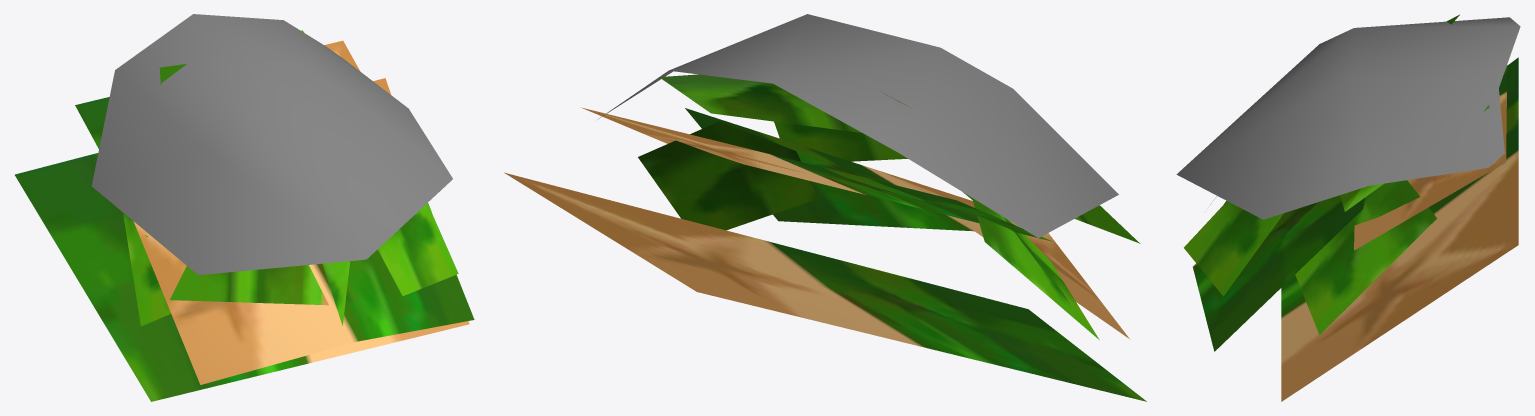
File: fg_bushE_2_s.dae
The picture shows the model from 3 angles, left to right: view 1: azimuth 30°, elevation 25°; view 2: azimuth 150°, elevation 25°; view 3: azimuth 270°, elevation 25°; orthographic projection. The views are drawn at different scales.
Visible parts, largest first — view 1: fg_bushE_2_s; view 2: fg_bushE_2_s; view 3: fg_bushE_2_s.
Part boxes in pixels (x1,y1,x2,y2): fg_bushE_2_s: [15, 14, 474, 401]; fg_bushE_2_s: [504, 14, 1146, 401]; fg_bushE_2_s: [1176, 14, 1520, 401].
Bounding box in the file's own units: 50.84 × 35.23 × 38.03.
Materials: 1 (1 with a texture image).
